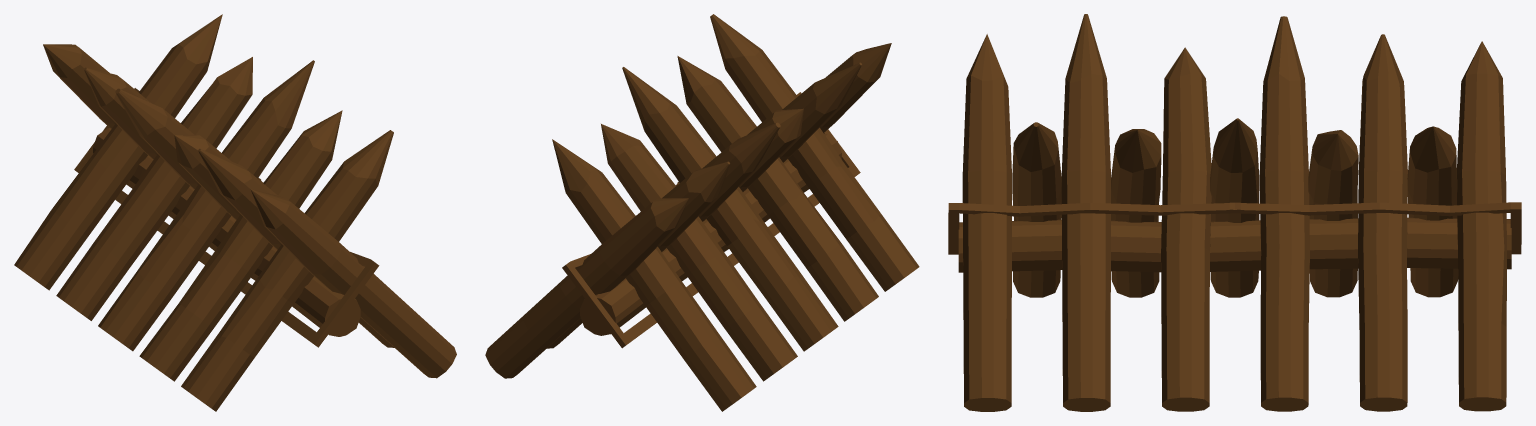
Rendered from Pike.fbx.
3 renders of one model, left to right at view 1: azimuth 30°, elevation 25°; view 2: azimuth 150°, elevation 25°; view 3: azimuth 270°, elevation 25°, orthographic. The views are drawn at different scales.
Parts seen in each view (by area): view 1: Cube.042, Cube.040, Cube.041, Cube.037; view 2: Cube.042, Cube.040, Cube.041, Cube.037; view 3: Cube.040, Cube.042, Cube.041, Cube.037.
Boxes of the visible parts, box(x1,y1,x2,y2) form: Cube.042: box(14, 14, 393, 411); Cube.040: box(43, 44, 456, 378); Cube.041: box(93, 128, 360, 336); Cube.037: box(74, 88, 379, 347); Cube.042: box(552, 14, 919, 411); Cube.040: box(485, 43, 891, 378); Cube.041: box(580, 134, 841, 335); Cube.037: box(562, 92, 860, 348); Cube.040: box(962, 14, 1506, 411); Cube.042: box(1012, 118, 1458, 297); Cube.041: box(958, 217, 1511, 272); Cube.037: box(948, 202, 1521, 254).
Bounding box in the file's own units: 527 × 495 × 887.
